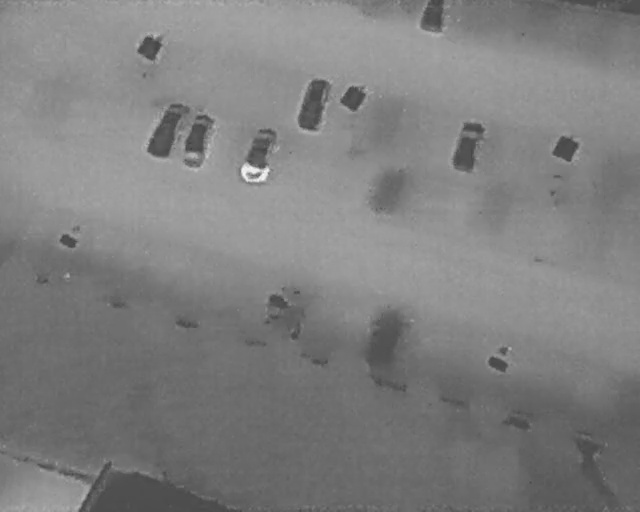Car: (143, 96, 190, 161), (237, 123, 282, 188), (178, 110, 219, 172), (294, 74, 334, 133), (449, 116, 486, 176), (418, 0, 447, 34)
